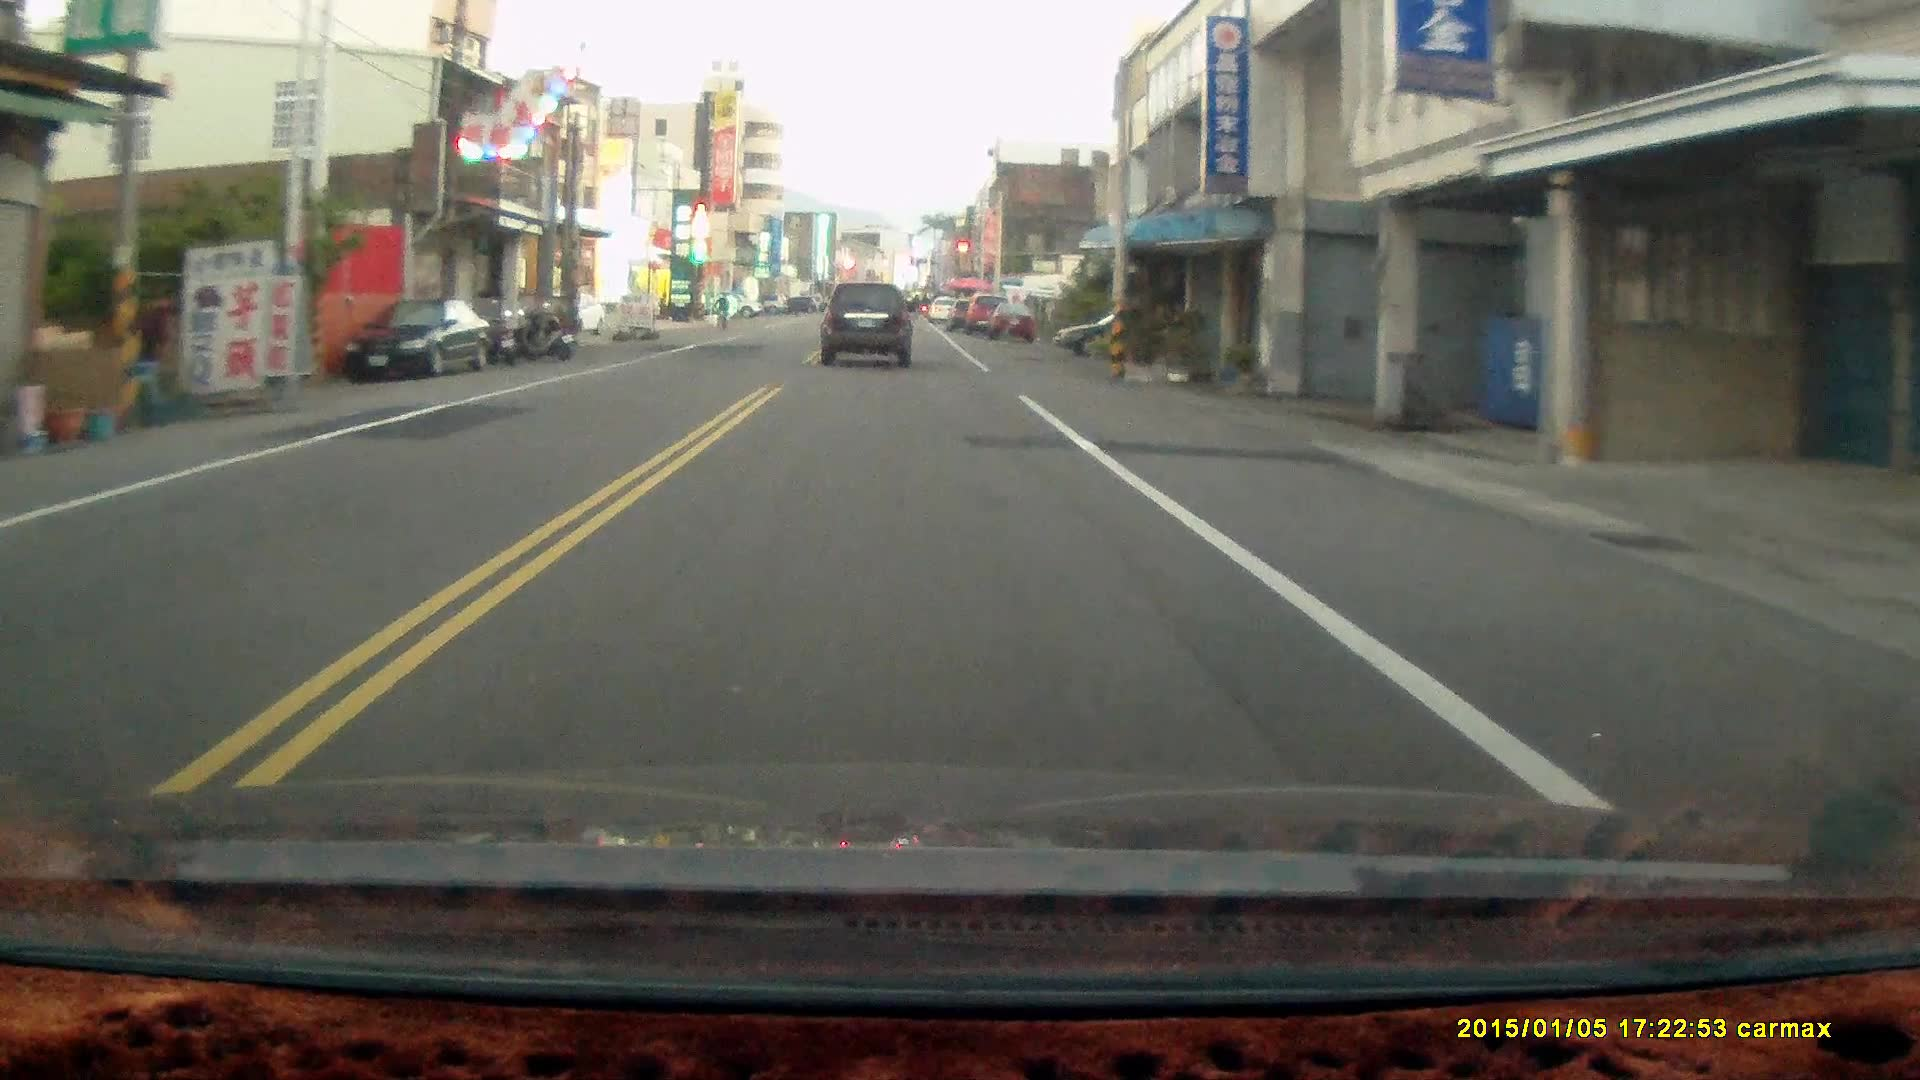pedestrian: (133, 293, 172, 413)
rider: (708, 290, 730, 330)
vehicle: (341, 296, 496, 385), (820, 282, 917, 370)
